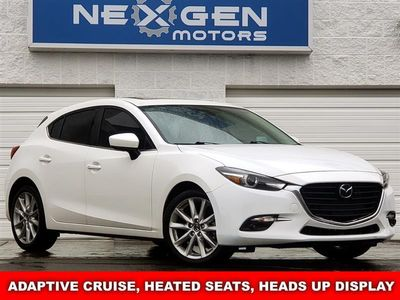Mazda3 Hatchback: (4, 97, 397, 268)
